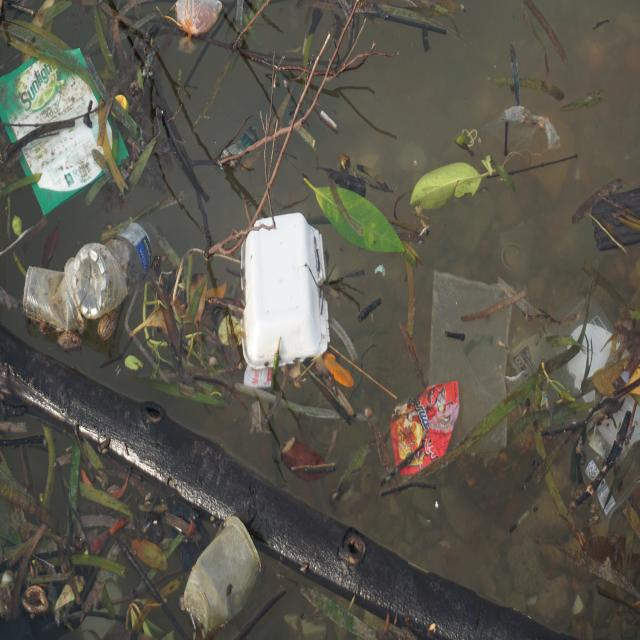Botol Plastik: (71, 209, 176, 323)
Bungkus Makanan: (237, 209, 337, 374), (384, 370, 464, 479)
Bungkus Minuman: (182, 509, 263, 633), (21, 254, 82, 338)
Kantong Plastik: (425, 261, 517, 466), (176, 1, 224, 46)
